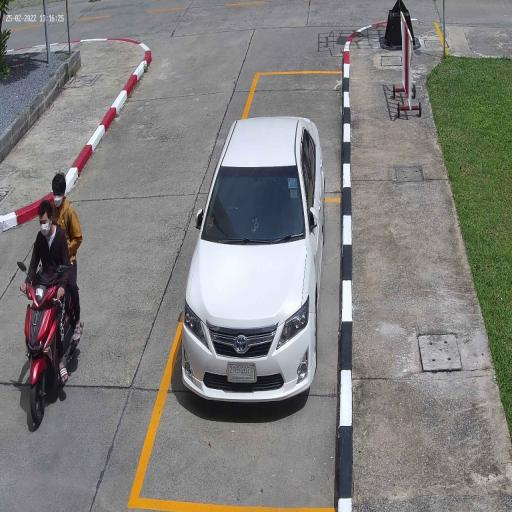car: (181, 114, 325, 403)
motorcycle: (22, 280, 58, 427)
